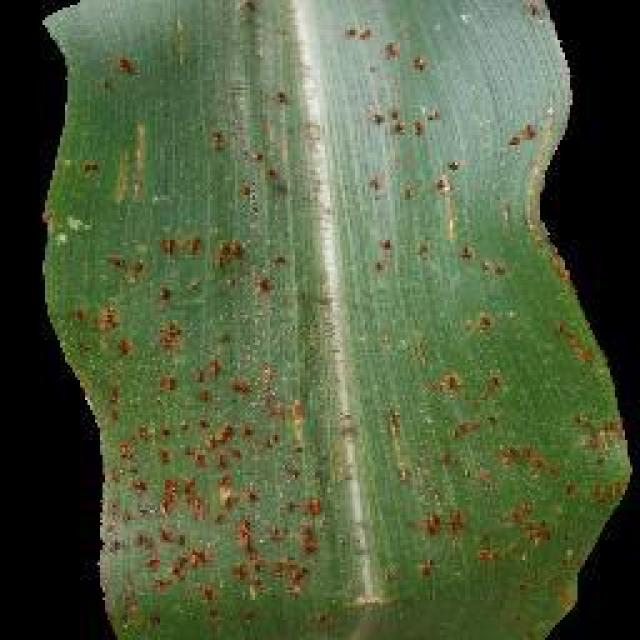Corn Common Rust: (123, 72, 557, 608)
